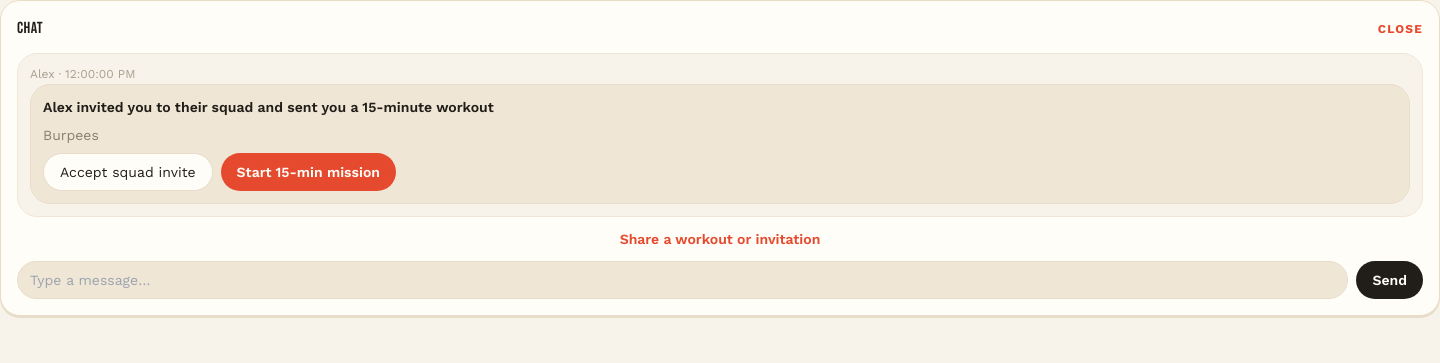
Scenario: MissionChat › shows an error when accepting a chat squad invite fails
Click the button "Accept squad invite" at (128, 172), box x1=43 y1=153 x2=213 y2=191
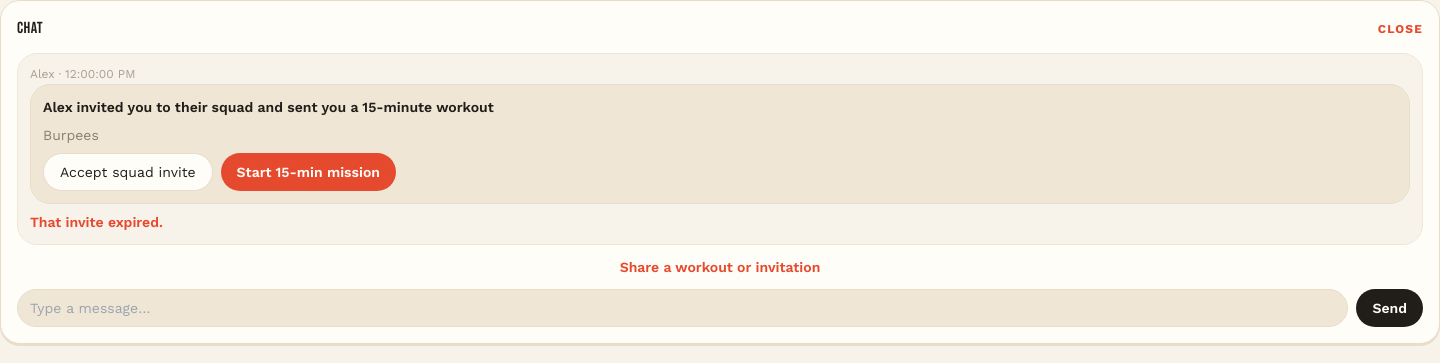
Check: the text "That invite expired." is shown, box x1=30 y1=214 x2=163 y2=230
